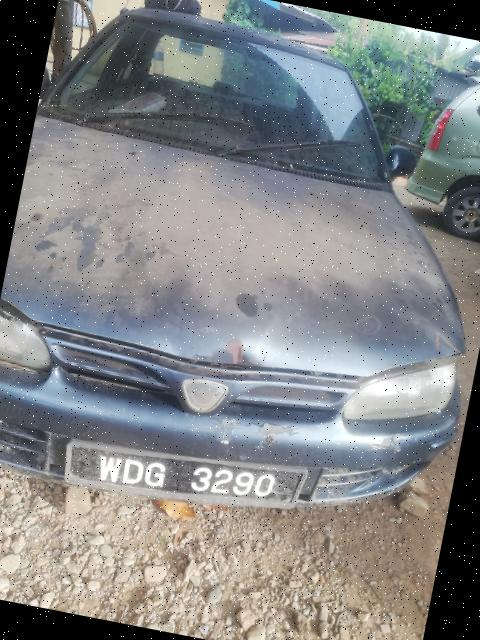License_Plate: (74, 436, 301, 520)
car: (1, 1, 480, 567)
